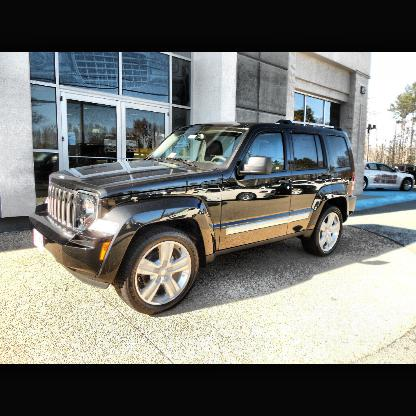Jeep Liberty SUV 2012: (28, 118, 357, 318)
